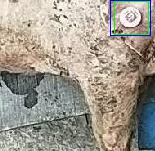text: (114, 1, 148, 34)
